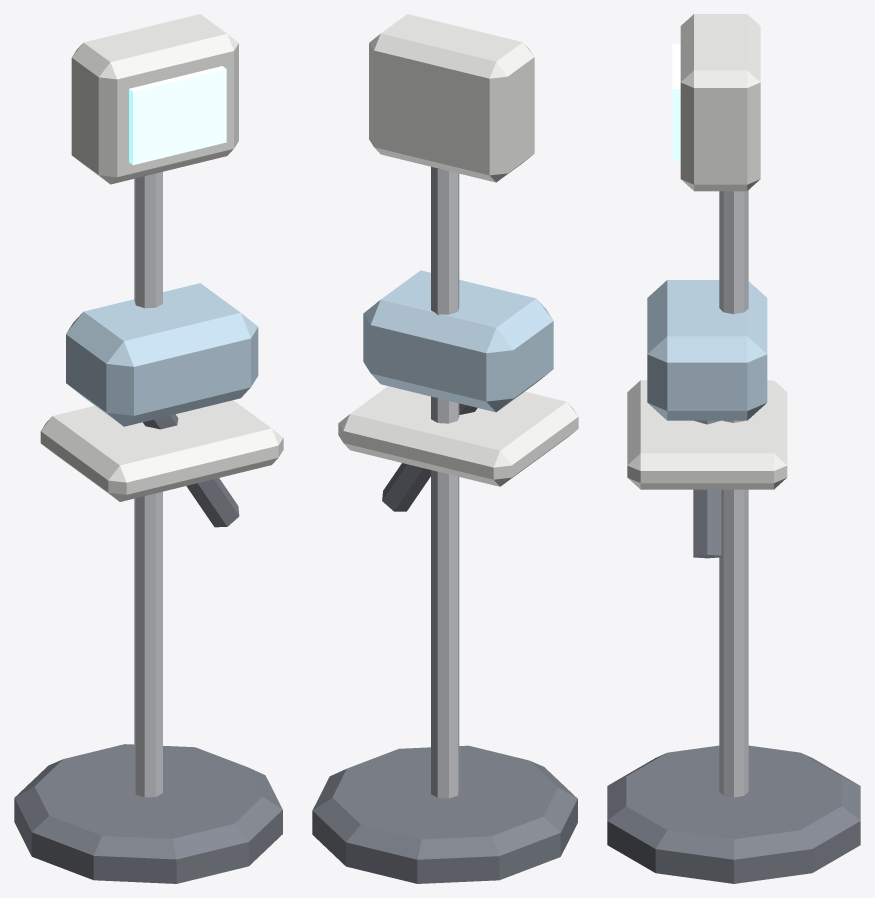
File: medical-23607.glb
The picture shows the model from 3 angles, left to right: view 1: azimuth 30°, elevation 25°; view 2: azimuth 150°, elevation 25°; view 3: azimuth 270°, elevation 25°; orthographic projection.
Visible parts, largest first — view 1: blood-pressure-stand; view 2: blood-pressure-stand; view 3: blood-pressure-stand.
Part boxes in pixels (<box>): blood-pressure-stand: <box>14,14,283,883</box>; blood-pressure-stand: <box>312,14,578,883</box>; blood-pressure-stand: <box>607,14,860,883</box>.
Size of the model in its own units: 0.4 by 1.3 by 0.3804.
